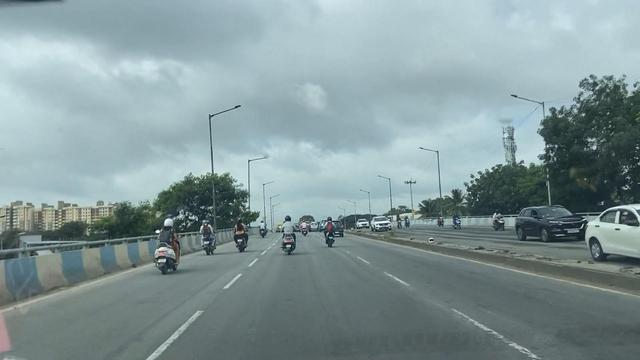LMV: (157, 216, 176, 272), (200, 217, 216, 260), (281, 215, 294, 255), (322, 217, 337, 249), (235, 219, 247, 255), (259, 218, 268, 241), (299, 219, 308, 238)
